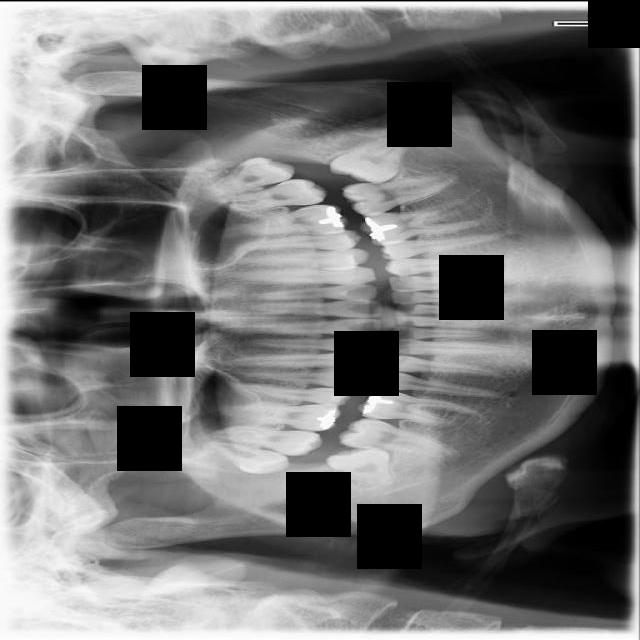3M ESPE Implant: (201, 436, 291, 480)
52: (358, 202, 419, 250), (355, 387, 414, 418), (289, 203, 345, 234), (286, 402, 341, 430)
BioHorizons Implant: (213, 175, 327, 214)
BioLife Implant: (201, 148, 296, 199)
Biomet 3i Implant: (325, 129, 417, 194)
Blue Sky Bio Implant: (342, 171, 460, 218)
Caries: (211, 422, 324, 458)
Implant: (337, 413, 454, 459)
Keystone Dental Implant: (325, 443, 395, 490)
